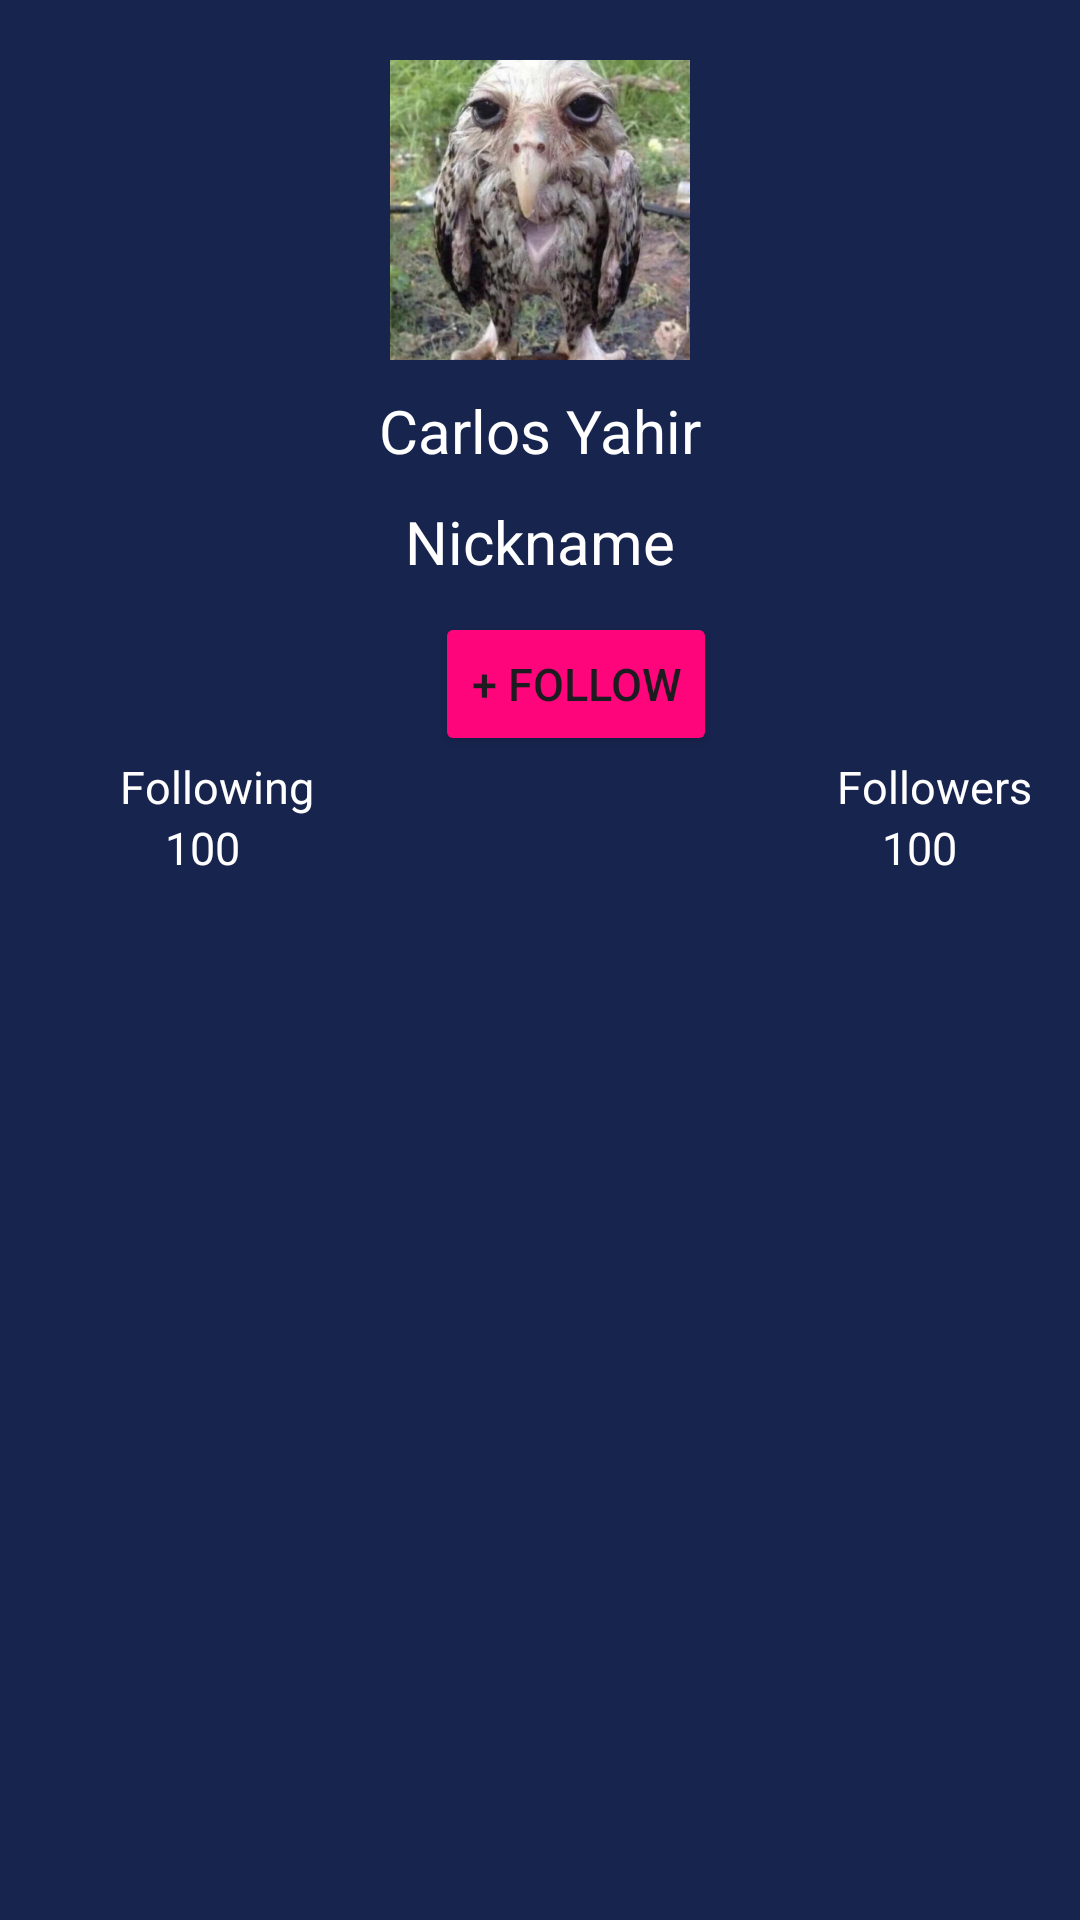

Icon bounding boxes for this 1080×1920 phone screenshot, format (x1, y1, x2, y2):
userpic: (390, 60, 690, 360)
